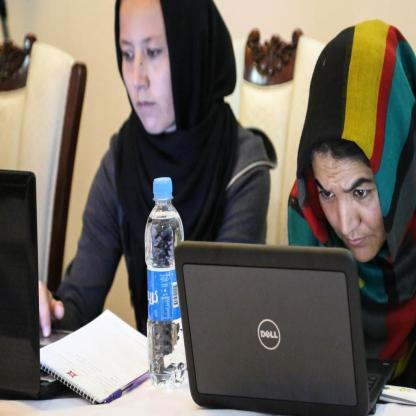board: (173, 252, 379, 412), (0, 169, 76, 396), (145, 178, 186, 386)
